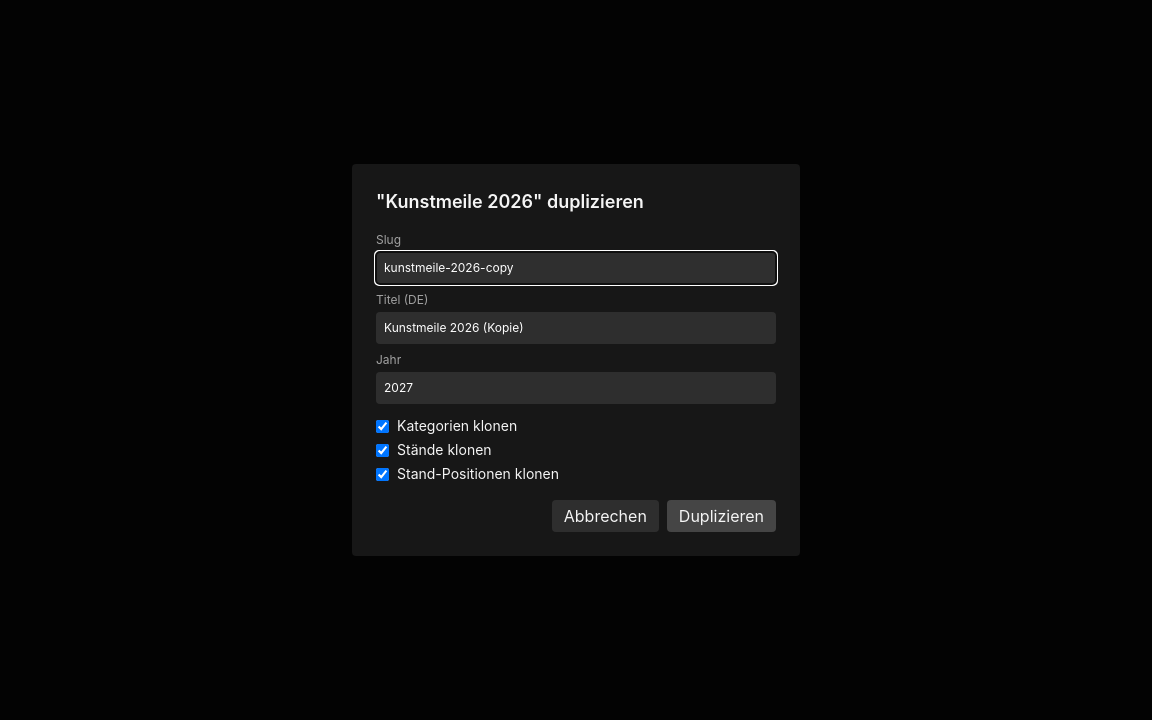
Scenario: DuplicateEventModal › disables "Clone tent positions" when "Clone tents" is unchecked
expect the checkbox labelled "Stand-Positionen klonen" is enabled: met, box [376,468,389,480]
Click the checkbox labelled "Stände klonen": x=382, y=450 [376,444,389,456]
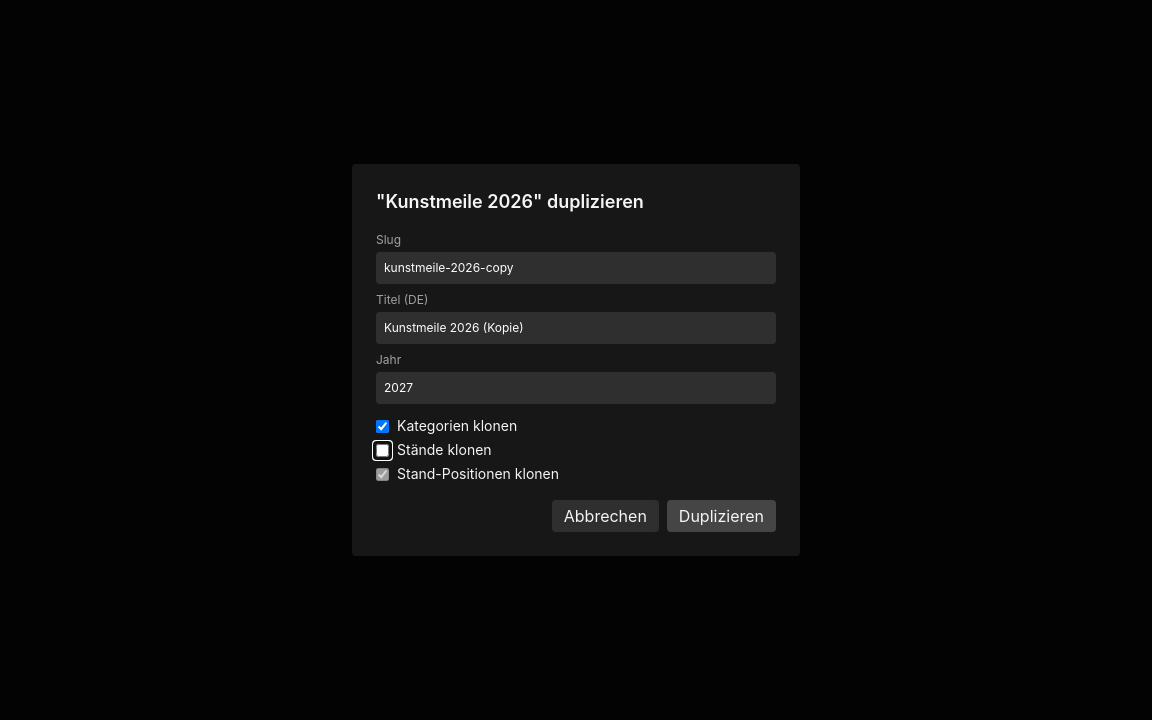
expect the checkbox labelled "Stand-Positionen klonen" is disabled: met, box [376,468,389,480]
